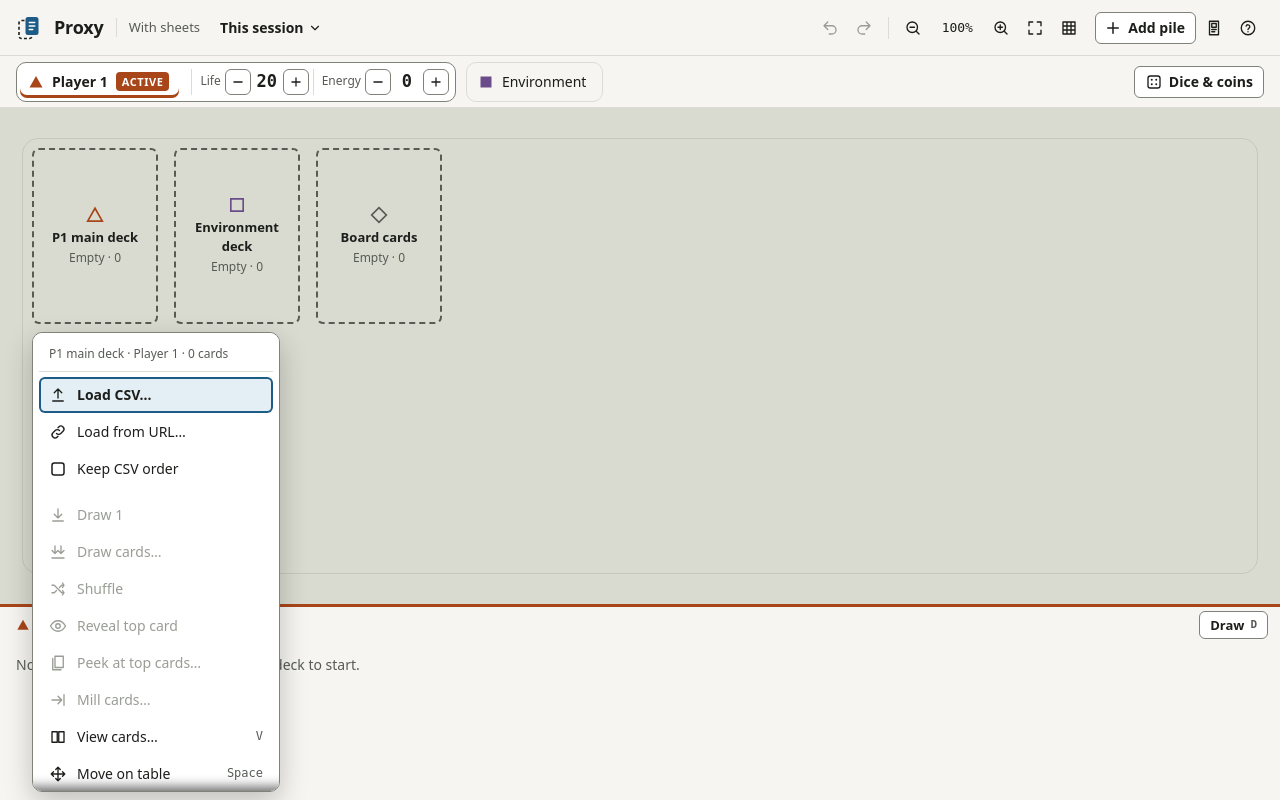
Test: CD-12 Reload all › Load from URL… on an empty pile with no card set fills in the format address
Click the menu item "Load from URL…": (156, 432) 39,414 -> 273,450
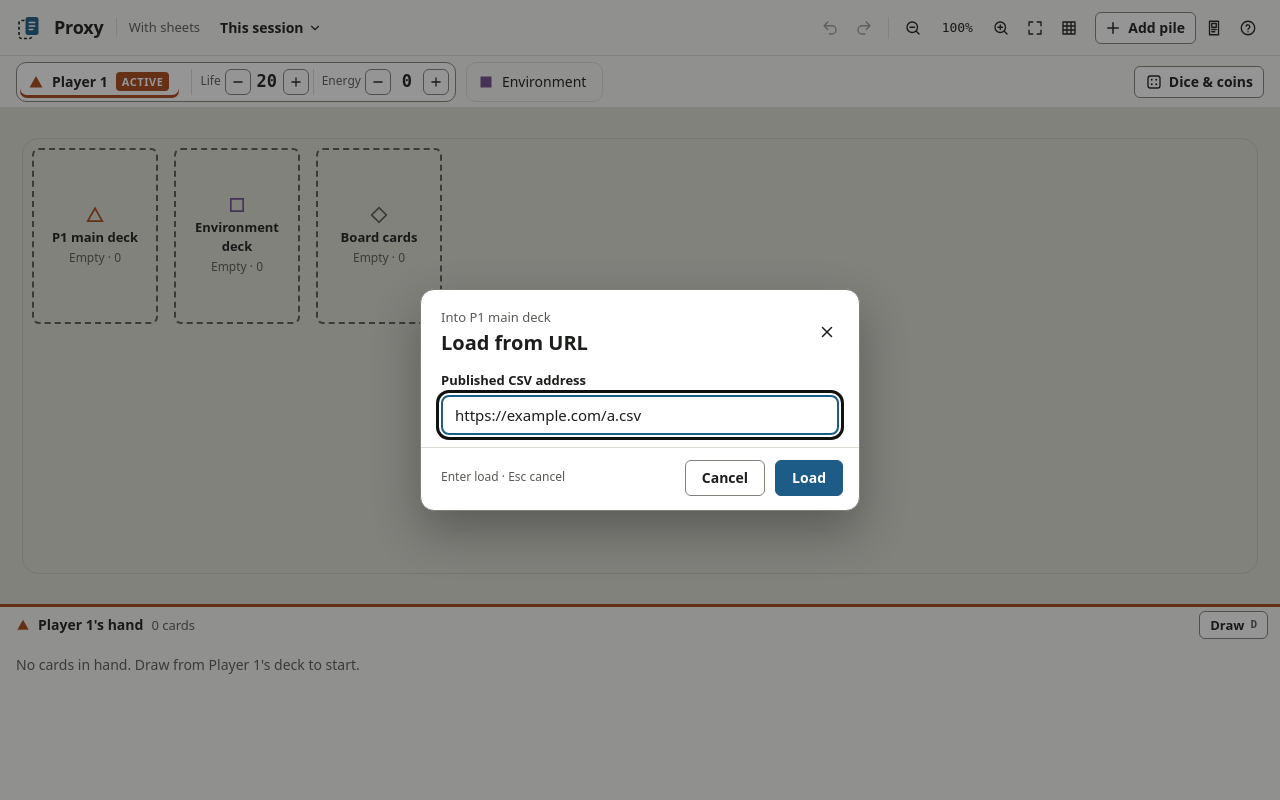
Expected: the field holds "https://example.com/a.csv", 441,395 -> 839,435
